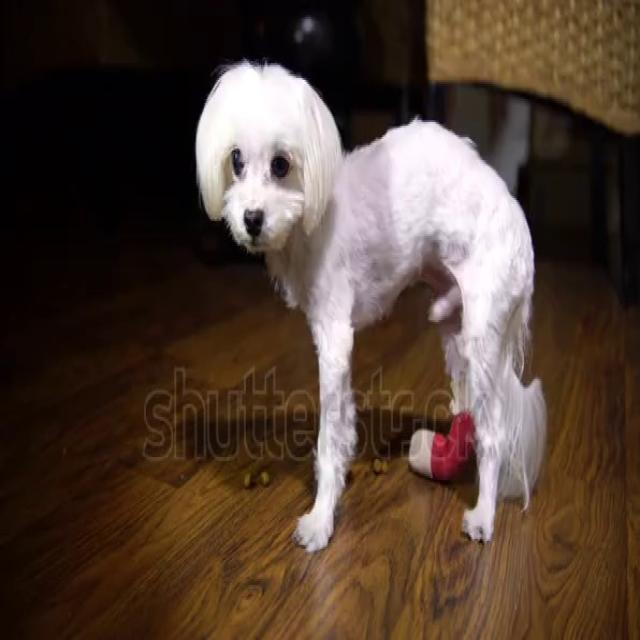injured-animals: (169, 79, 527, 584), (354, 346, 587, 572)
